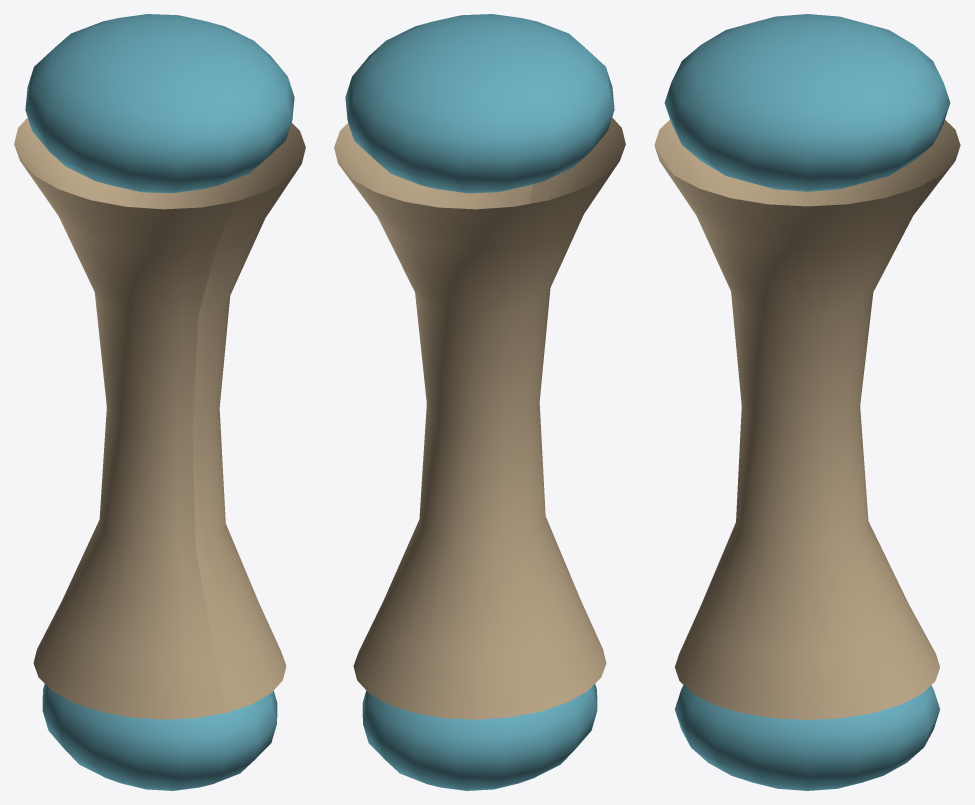
The model's file is left_digit_2_proximal.glb.
3 views of the same model, side by side, from view 1: azimuth 30°, elevation 25°; view 2: azimuth 150°, elevation 25°; view 3: azimuth 270°, elevation 25° (orthographic).
Parts seen in each view (by area): view 1: left_digit_2_proximal:diaphysis, left_digit_2_proximal:proximal-envelope, left_digit_2_proximal:distal-envelope; view 2: left_digit_2_proximal:diaphysis, left_digit_2_proximal:proximal-envelope, left_digit_2_proximal:distal-envelope; view 3: left_digit_2_proximal:diaphysis, left_digit_2_proximal:proximal-envelope, left_digit_2_proximal:distal-envelope.
Part boxes in pixels (x1,y1,x2,y2): left_digit_2_proximal:diaphysis: [14, 117, 305, 719]; left_digit_2_proximal:proximal-envelope: [25, 14, 294, 193]; left_digit_2_proximal:distal-envelope: [42, 684, 277, 790]; left_digit_2_proximal:diaphysis: [334, 117, 625, 719]; left_digit_2_proximal:proximal-envelope: [345, 14, 614, 193]; left_digit_2_proximal:distal-envelope: [362, 684, 597, 790]; left_digit_2_proximal:diaphysis: [654, 120, 960, 719]; left_digit_2_proximal:proximal-envelope: [664, 14, 950, 191]; left_digit_2_proximal:distal-envelope: [675, 685, 939, 790].
Size of the model in its own units: 0.0408 by 0.1152 by 0.0432.
